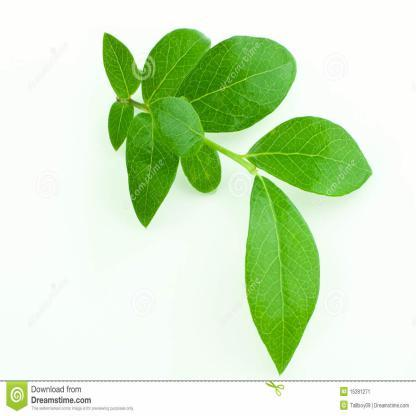Blueberry leaf: (244, 164, 327, 381), (248, 113, 393, 201), (186, 33, 304, 134), (116, 102, 186, 244), (141, 25, 217, 109), (140, 89, 210, 154), (97, 25, 138, 103)
